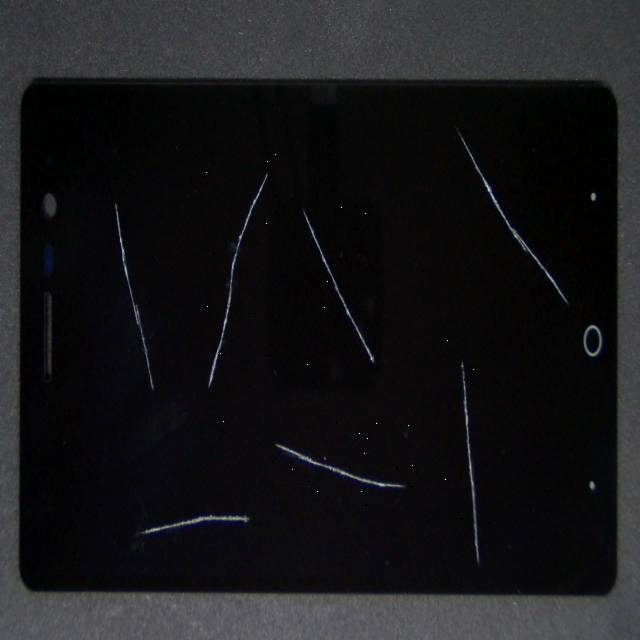scratch: (261, 149, 640, 510), (139, 187, 405, 640), (90, 118, 297, 550), (225, 218, 527, 402)
